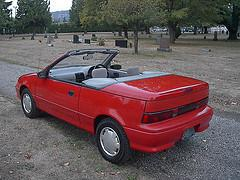Car: (9, 41, 218, 169)
